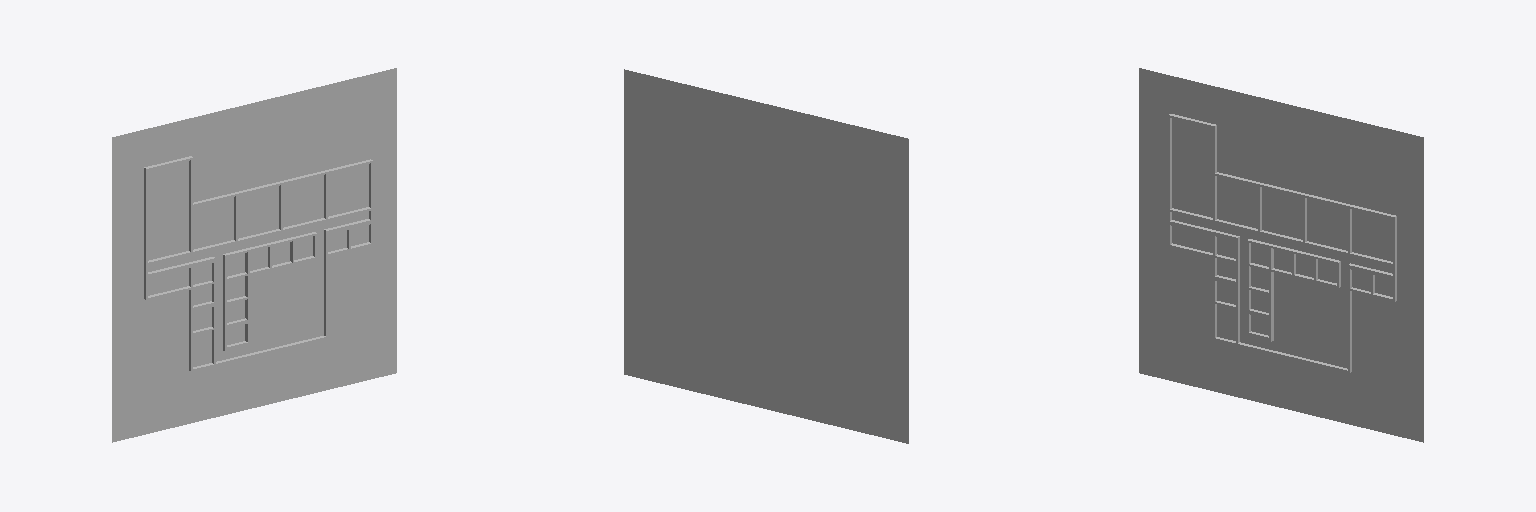
Rendered from testV3.obj.
The picture shows the model from 3 angles: view 1: azimuth 30°, elevation 25°; view 2: azimuth 150°, elevation 25°; view 3: azimuth 330°, elevation 25°; orthographic projection.
Visible parts, largest first — view 1: QuadPatch001, Box014, Box024, Box010; view 2: QuadPatch001; view 3: QuadPatch001, Box014, Box024, Box010.
Part boxes in pixels (bbox=[...]): QuadPatch001: bbox=[112, 68, 396, 442]; Box014: bbox=[148, 207, 371, 264]; Box024: bbox=[192, 160, 371, 206]; Box010: bbox=[192, 336, 326, 371]; QuadPatch001: bbox=[624, 69, 908, 443]; QuadPatch001: bbox=[1139, 68, 1423, 442]; Box014: bbox=[1170, 208, 1392, 265]; Box024: bbox=[1215, 172, 1395, 218]; Box010: bbox=[1214, 337, 1347, 372].
Bounding box in the file's own units: 76.03 × 77.83 × 1.